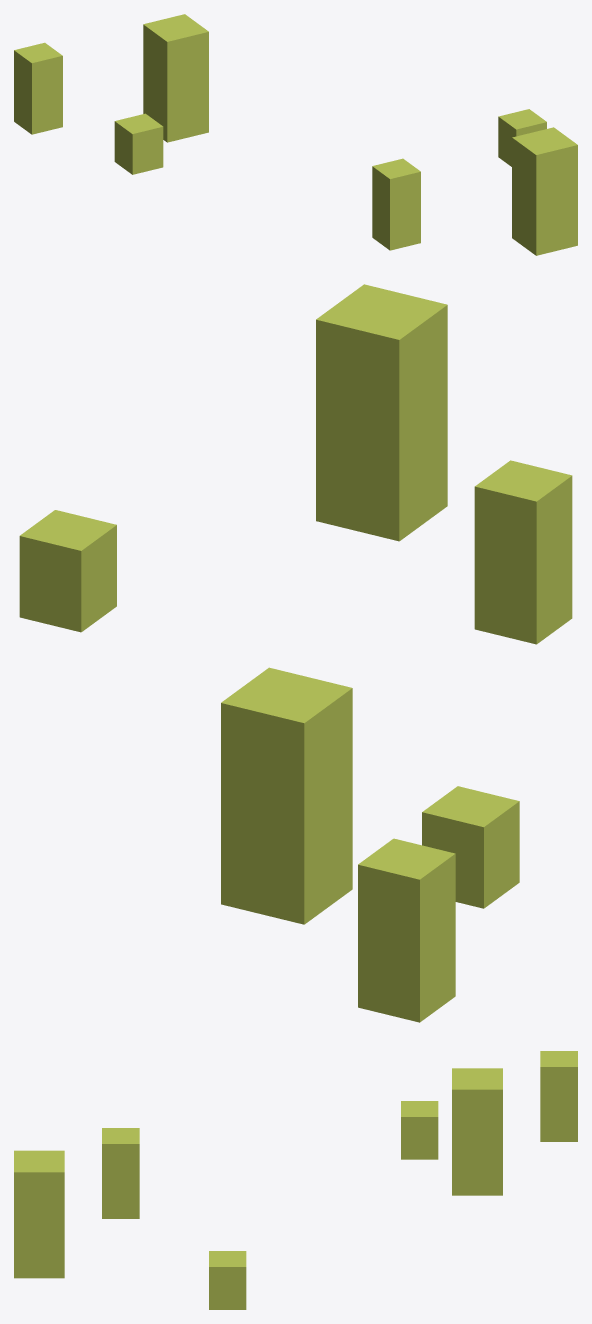
Rendered from fbx_grass03.fbx.
3 views of the same model, one above another, from view 1: azimuth 30°, elevation 25°; view 2: azimuth 150°, elevation 25°; view 3: azimuth 270°, elevation 25° (orthographic). The views are drawn at different scales.
Visible parts, largest first — view 1: sm_grass03; view 2: sm_grass03; view 3: sm_grass03.
Part boxes in pixels (<box>): sm_grass03: <box>14,14,577,255</box>; sm_grass03: <box>19,284,572,1022</box>; sm_grass03: <box>14,1051,577,1309</box>.
Bounding box in the file's own units: 45.81 × 12.33 × 59.46.
